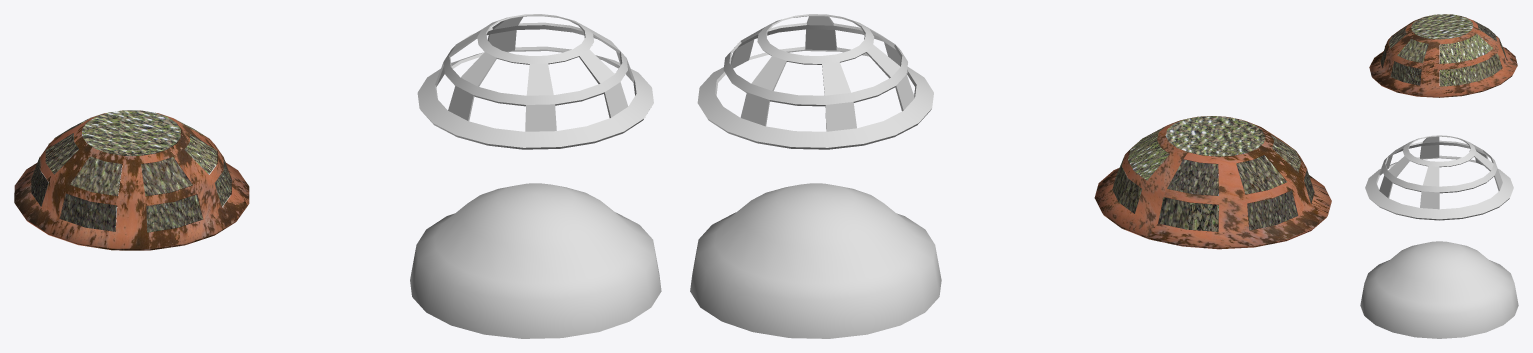
File: submarine terminal 1.FBX
3 views of the same model, side by side, from view 1: azimuth 30°, elevation 25°; view 2: azimuth 150°, elevation 25°; view 3: azimuth 270°, elevation 25° (orthographic). The views are drawn at different scales.
Visible parts, largest first — view 1: Sphere001, Object002, Object003, Object004; view 2: Sphere001, Object002, Object003, Object004; view 3: Sphere001, Object002, Object004, Object003.
Boxes of the visible parts, <box> form: Sphere001: <box>410,183,661,338</box>; Object002: <box>417,14,653,149</box>; Object003: <box>14,113,249,250</box>; Object004: <box>31,110,231,232</box>; Sphere001: <box>690,183,941,338</box>; Object002: <box>697,14,933,149</box>; Object003: <box>1094,116,1331,249</box>; Object004: <box>1112,116,1314,231</box>; Sphere001: <box>1360,241,1518,338</box>; Object002: <box>1365,135,1513,220</box>; Object004: <box>1380,14,1506,86</box>; Object003: <box>1369,17,1517,97</box>.
Bounding box in the file's own units: 230 × 90.38 × 82.36.
